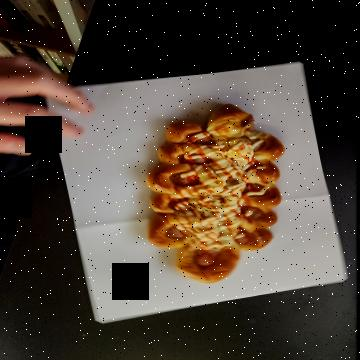pizza_bread: (104, 81, 285, 222)
